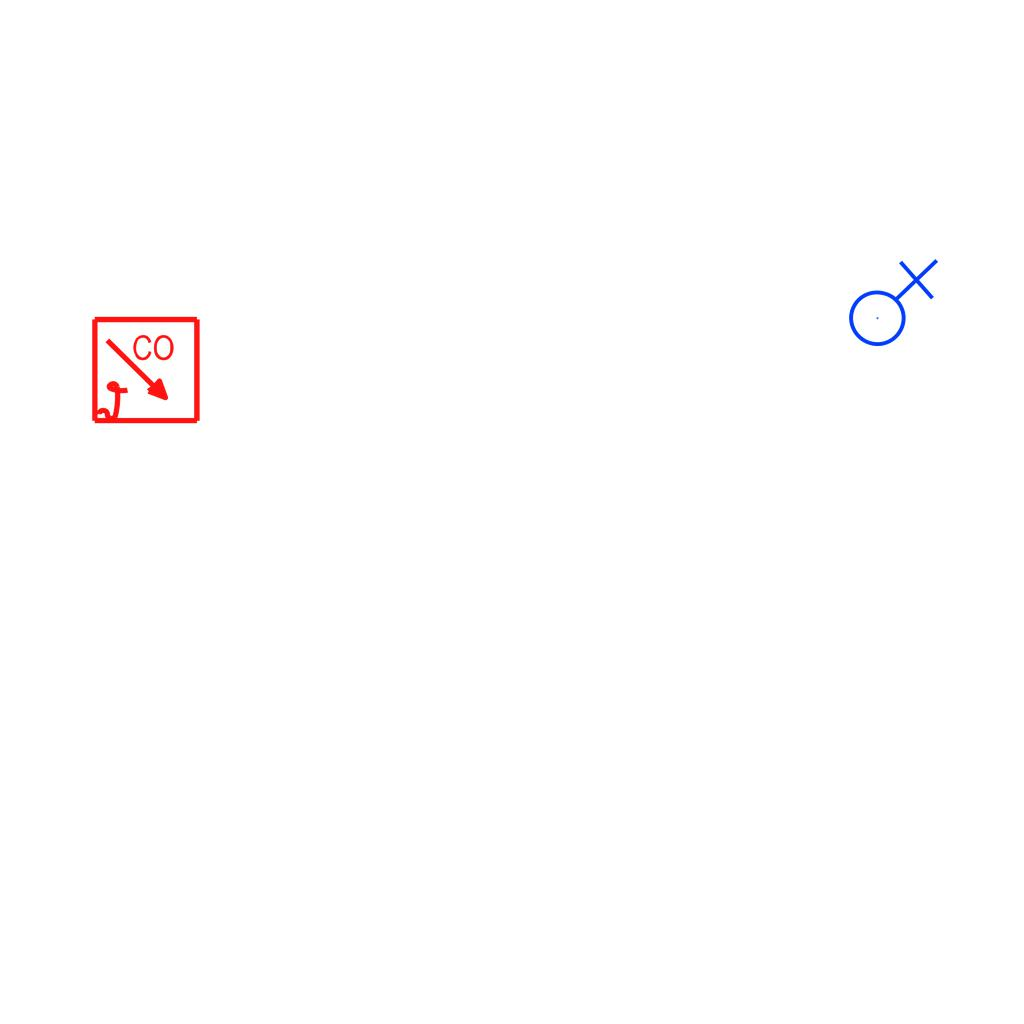Elektroanschluss_allgemein_230V_Geraeteanschlussdose_230V: (840, 254, 939, 348)
ROA_Rauchmelder_optisch_mit_Signalgeber_(Sockelsirene): (90, 315, 203, 428)
